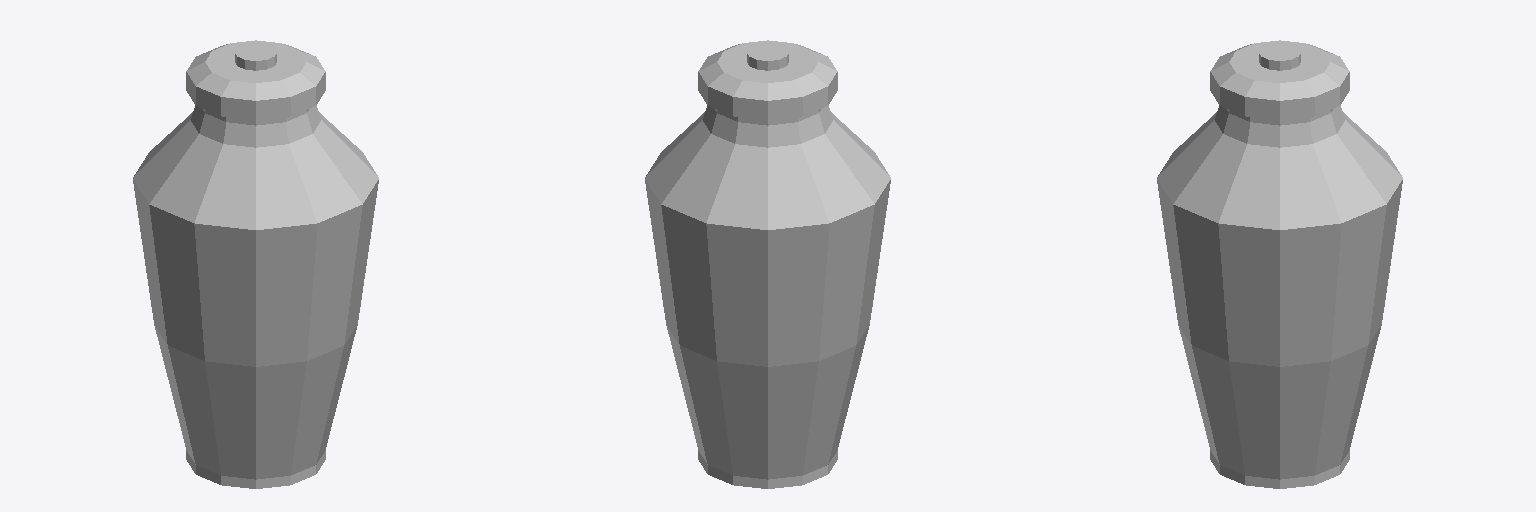
File: tallvase.obj
3 renders of one model, left to right at view 1: azimuth 30°, elevation 25°; view 2: azimuth 150°, elevation 25°; view 3: azimuth 270°, elevation 25°, orthographic.
Bounding box in the file's own units: 0.2303 × 0.42 × 0.2303.